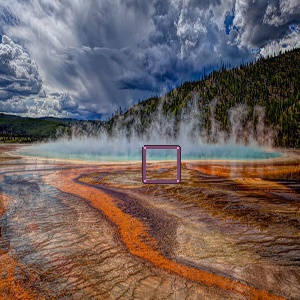square: (142, 144, 181, 184)
